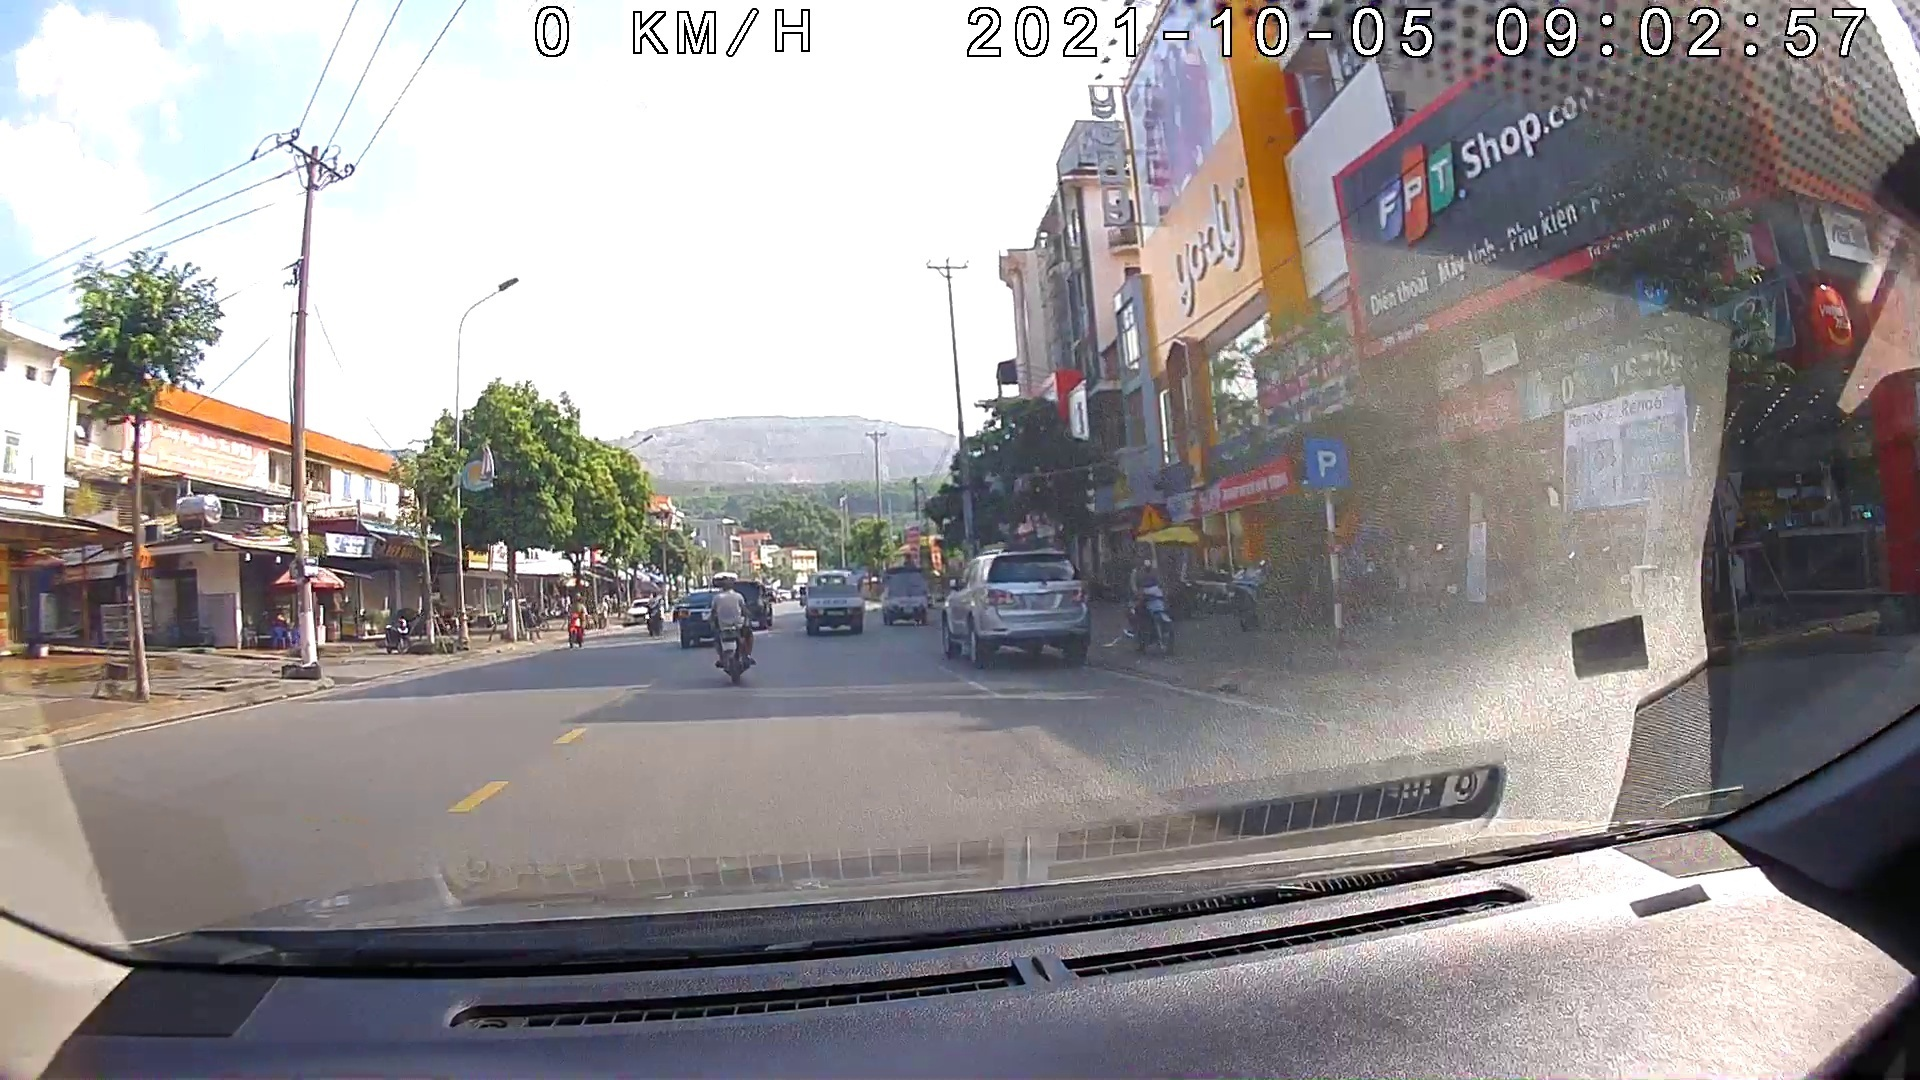Bien khac: (1305, 436, 1352, 488), (1131, 502, 1166, 535)
